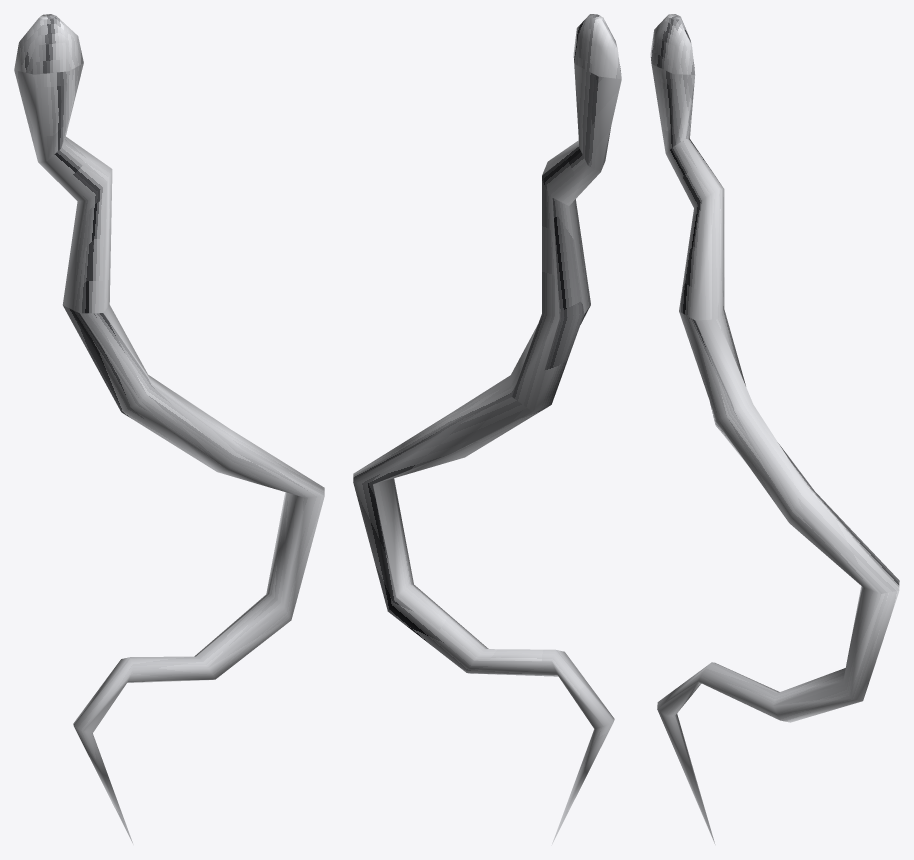
The model's file is snake_000005.obj.
The picture shows the model from 3 angles, left to right: view 1: azimuth 30°, elevation 25°; view 2: azimuth 150°, elevation 25°; view 3: azimuth 330°, elevation 25°; orthographic projection. The views are drawn at different scales.
Visible parts, largest first — view 1: Cylinder; view 2: Cylinder; view 3: Cylinder.
Boxes of the visible parts, x1,y1,x2,y2 form: Cylinder: [14, 14, 324, 844]; Cylinder: [353, 14, 621, 845]; Cylinder: [650, 14, 899, 844].
Size of the model in its own units: 2.85 by 7.94 by 0.6922.
